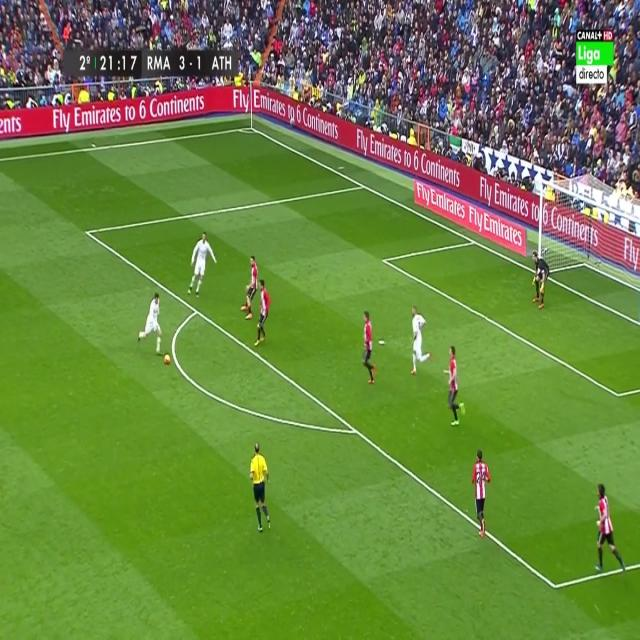Ball: (162, 351, 173, 367)
Goalkeeper: (529, 248, 551, 310)
Player: (593, 480, 627, 580), (185, 229, 218, 301), (442, 342, 466, 426), (471, 449, 492, 541), (408, 304, 433, 377), (137, 293, 164, 358), (254, 278, 271, 356), (240, 253, 259, 322), (362, 309, 378, 388)
Referee: (248, 440, 272, 539)
